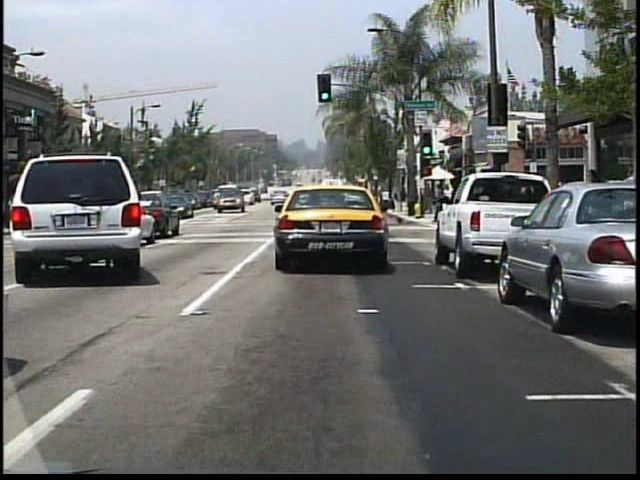person: (581, 167, 605, 252), (422, 181, 433, 217)
